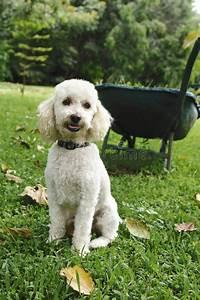dog: (36, 78, 123, 257)
